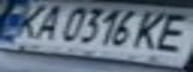0: (54, 3, 87, 43)
1: (96, 6, 124, 47)
3: (78, 4, 103, 46)
6: (112, 6, 145, 49)
A: (24, 1, 69, 42)
E: (148, 9, 193, 54)
K: (127, 8, 181, 53), (3, 1, 51, 39)
